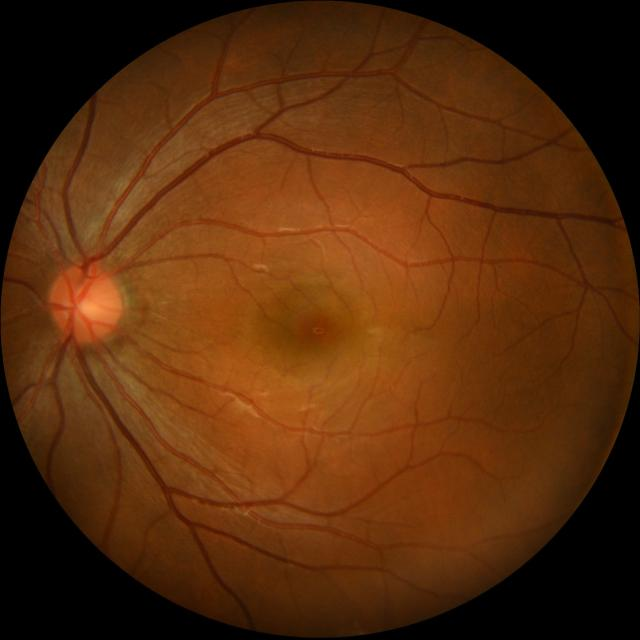OC: (68, 286, 104, 323)
OD: (50, 263, 122, 344)
